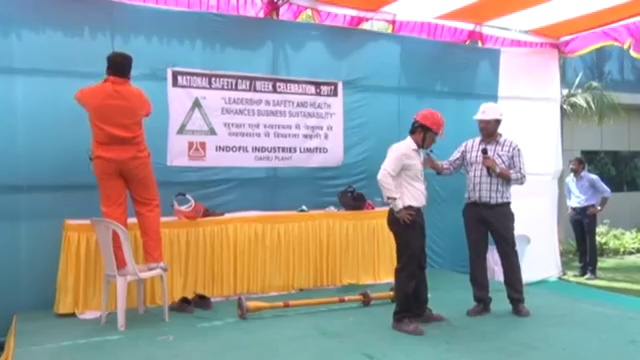helmet: (414, 107, 445, 137), (472, 100, 504, 122)
helmet_off: (105, 49, 133, 82), (568, 154, 585, 177)
helmet_on: (408, 107, 444, 152), (471, 99, 505, 141)
person: (427, 99, 533, 318), (75, 49, 170, 272), (375, 106, 448, 338), (562, 152, 613, 282)
